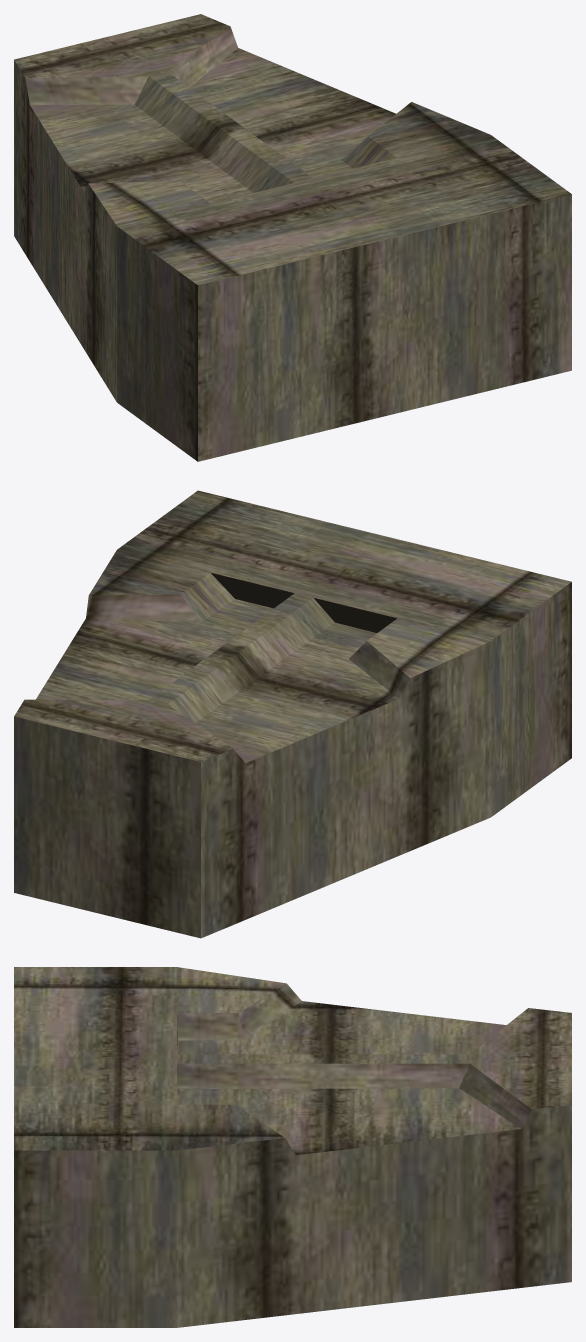
Rendered from Thruster1.gltf.
3 renders of one model, top to bottom at view 1: azimuth 30°, elevation 25°; view 2: azimuth 150°, elevation 25°; view 3: azimuth 270°, elevation 25°, orthographic.
Visible parts, largest first — view 1: Cube; view 2: Cube; view 3: Cube.
Boxes of the visible parts, left/top/right/bottom form: Cube: left=14, top=14, right=571, bottom=461; Cube: left=14, top=490, right=571, bottom=938; Cube: left=14, top=967, right=571, bottom=1327.
Size of the model in its own units: 2 by 0.9015 by 2.57.
Materials: 1 (1 with a texture image).
